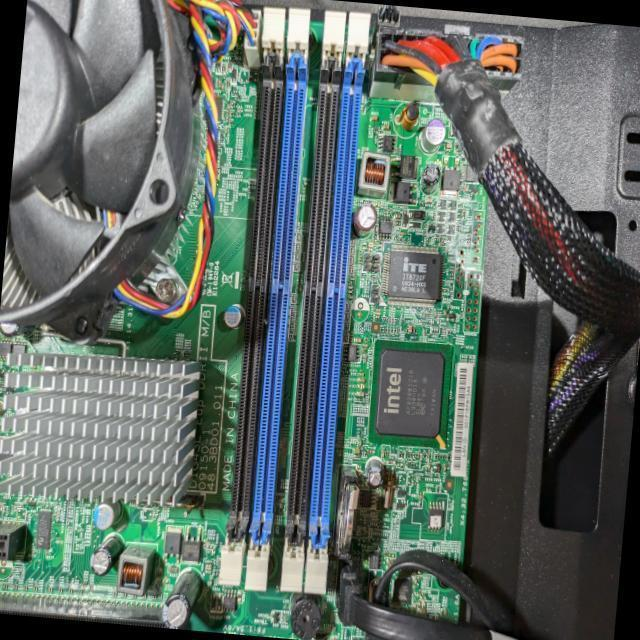CPU_Fan: (0, 0, 219, 348)
Mainboard: (0, 0, 509, 640)
